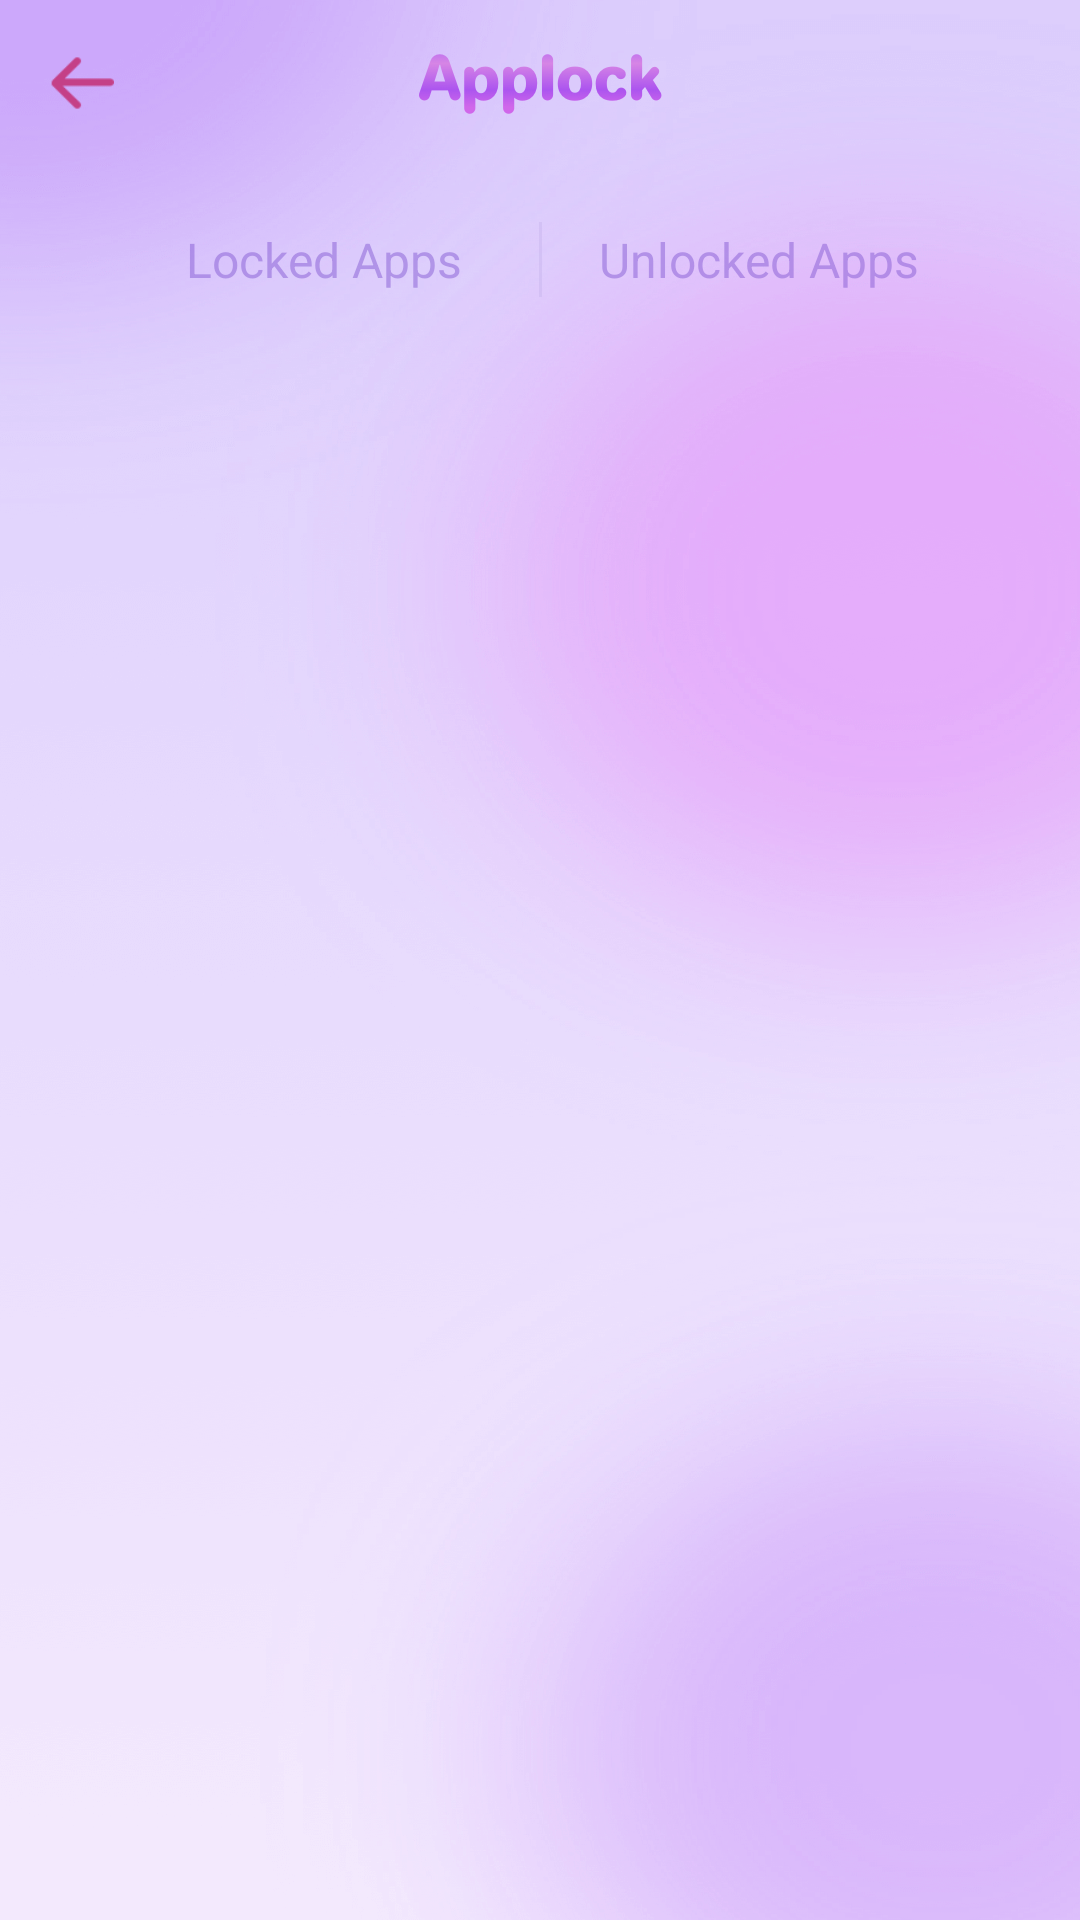

Where to tap for icons on this 1080 × 1920 app screen, as (x=x, y=y):
back: (x=82, y=83)
